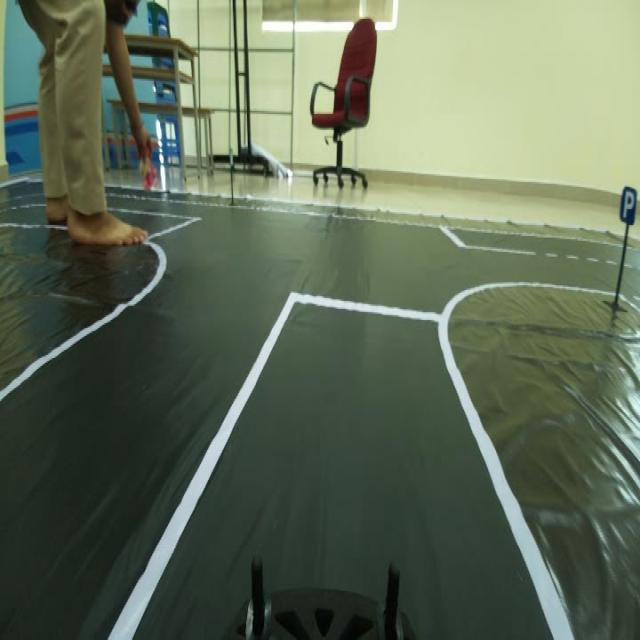parking: (618, 179, 638, 227)
